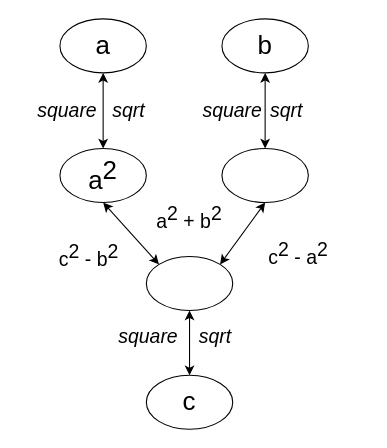
The diagram is 387 pixels wide and 448 high, and some of its shapes have lost their labels. The box of each missing label's shape, as (x1, y1, x2, y2) in pixels:
b 2: (221, 147, 308, 202)
c 2: (145, 255, 233, 310)
